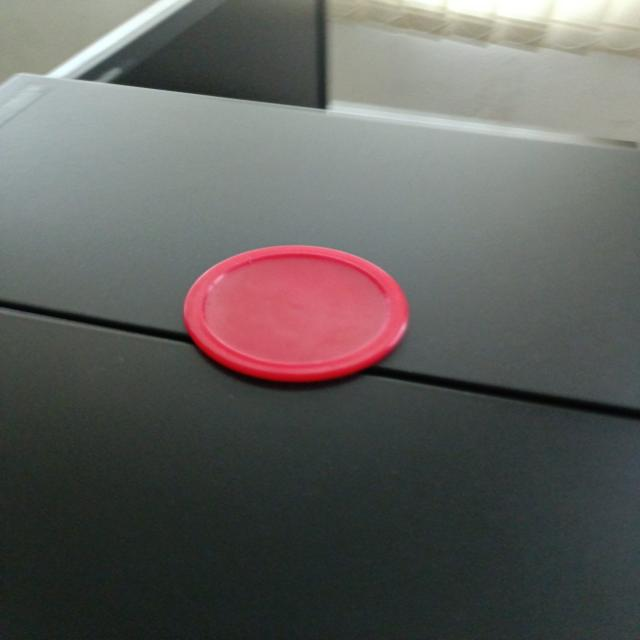chip: (180, 242, 412, 384)
